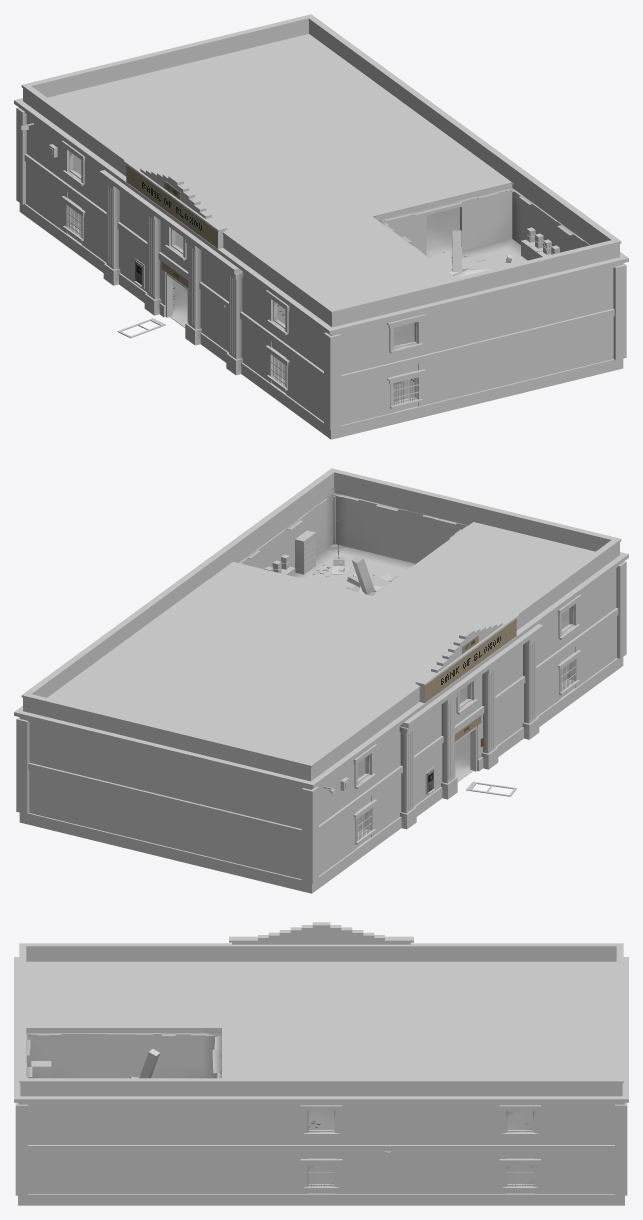
Rendered from bank.glb.
3 renders of one model, top to bottom at view 1: azimuth 30°, elevation 25°; view 2: azimuth 150°, elevation 25°; view 3: azimuth 270°, elevation 25°, orthographic. The views are drawn at different scales.
Visible parts, largest first — view 1: bank; view 2: bank; view 3: bank.
Boxes of the visible parts, box(x1,y1,x2,y2) form: bank: box(14, 14, 628, 439); bank: box(14, 468, 628, 893); bank: box(14, 922, 628, 1205).
Size of the model in its own units: 19.59 by 8.23 by 30.94.
Materials: 4 (3 with a texture image).
